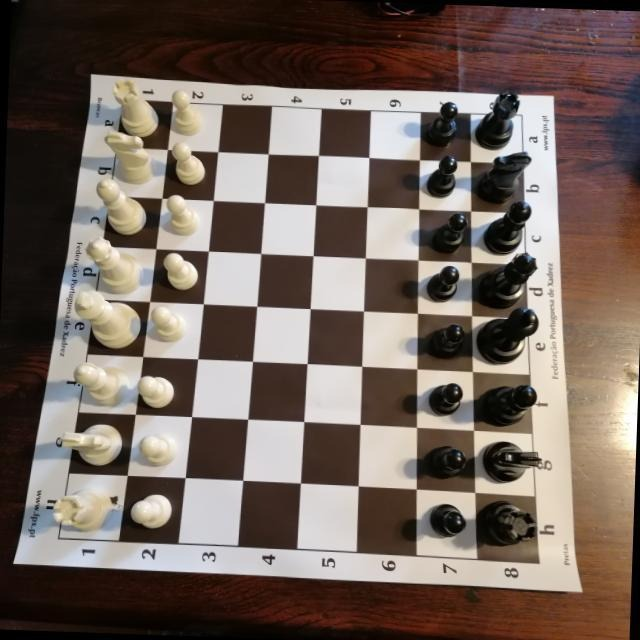black-bishop: (483, 199, 532, 257), (482, 382, 538, 428)
black-king: (474, 304, 540, 367)
black-knight: (477, 149, 531, 206), (481, 439, 543, 485)
black-pawn: (426, 99, 458, 148), (432, 210, 468, 253), (428, 501, 468, 539), (425, 153, 458, 199), (429, 444, 467, 480), (425, 264, 459, 304), (428, 383, 464, 417), (433, 322, 467, 358)
black-queen: (481, 249, 539, 310)
black-rook: (473, 88, 520, 151), (481, 498, 539, 547)
white-bishop: (94, 177, 148, 235), (71, 361, 130, 407)
white-king: (73, 289, 143, 350)
white-knight: (101, 131, 158, 185), (57, 421, 123, 466)
white-pawn: (169, 88, 204, 136), (169, 140, 206, 185), (164, 193, 200, 237), (129, 491, 171, 528), (150, 305, 188, 343), (161, 252, 198, 290), (136, 375, 176, 409), (138, 433, 178, 467)
white-queen: (82, 235, 146, 296)
white-rook: (109, 77, 160, 138), (51, 487, 112, 533)
